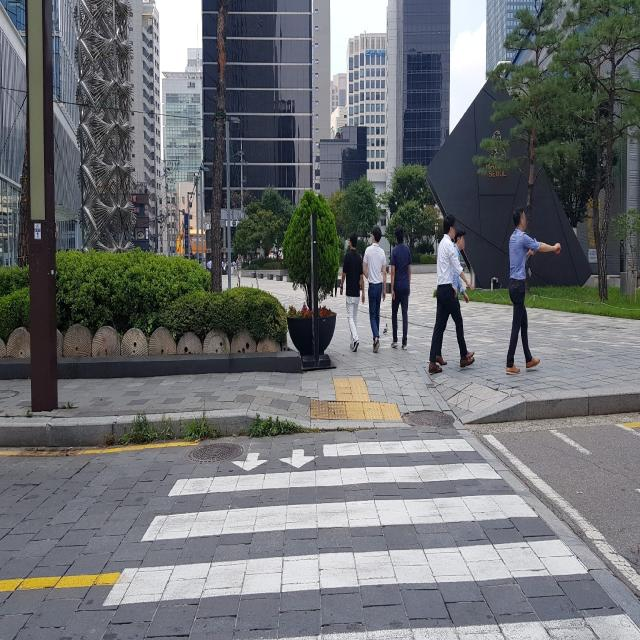횡단보도: (99, 434, 638, 638)
